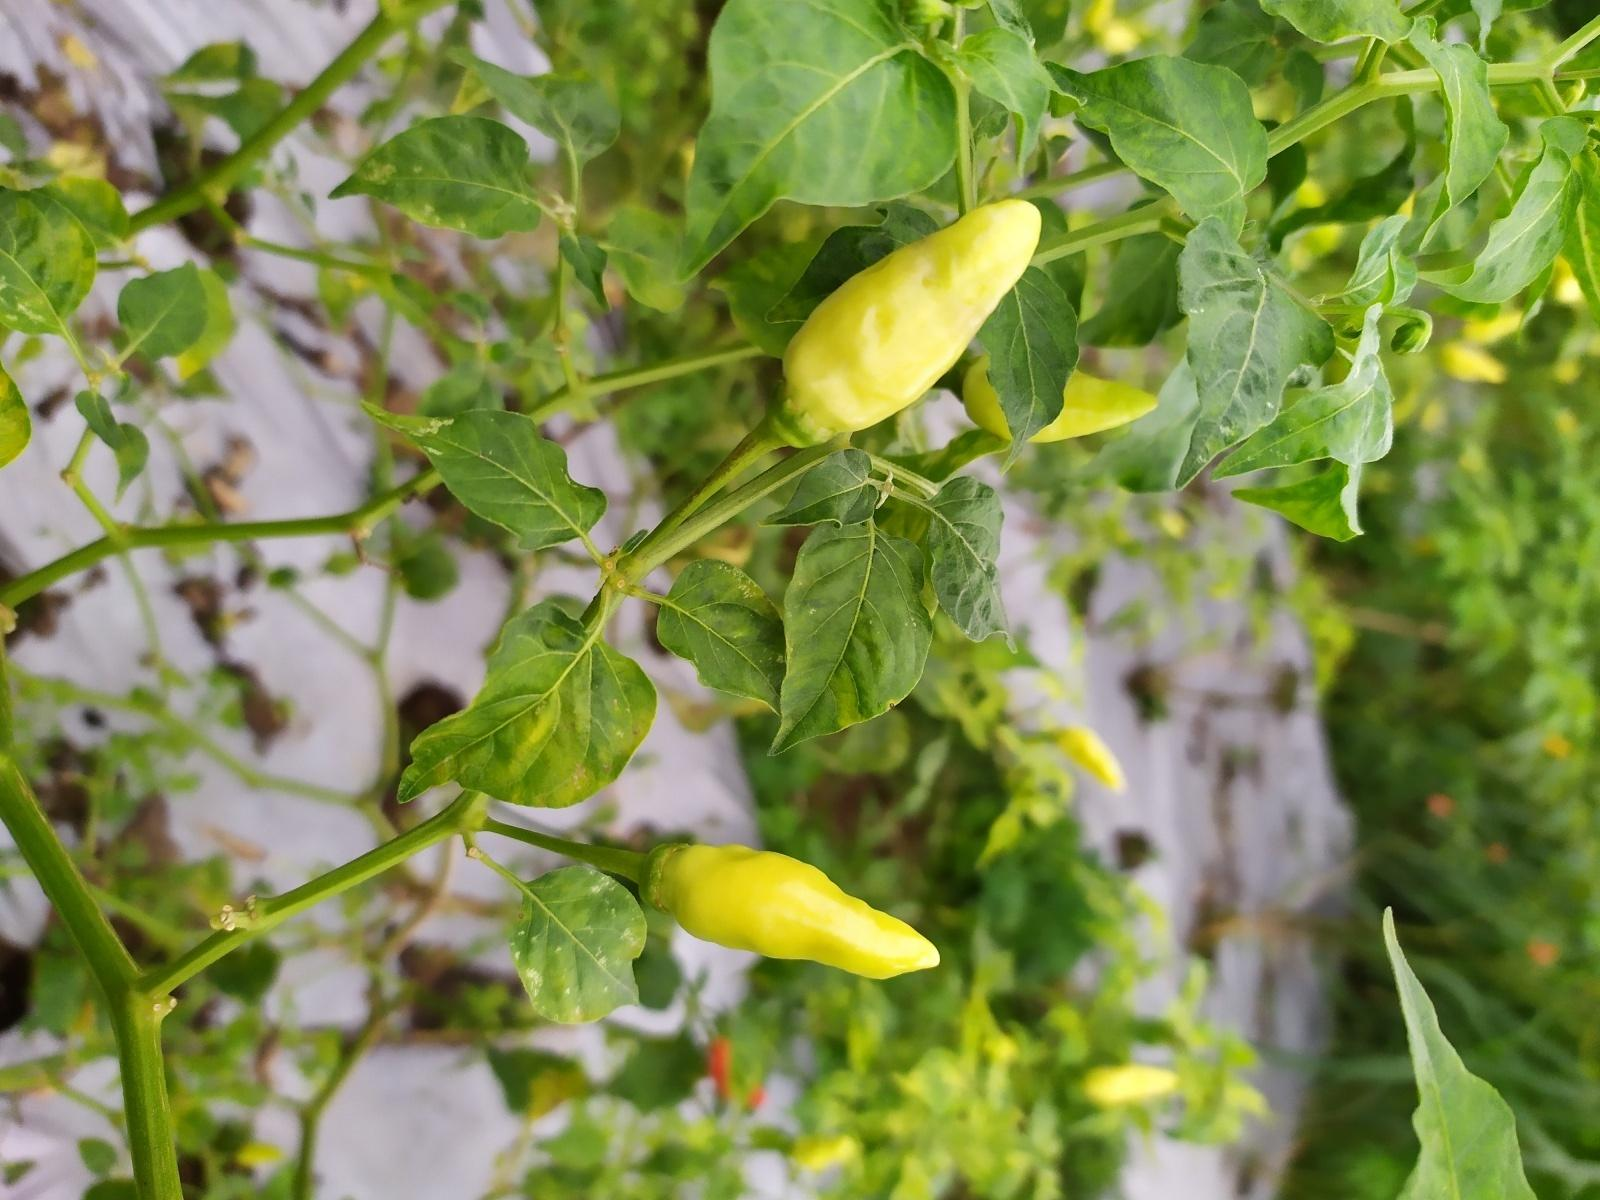cabai_normal: (781, 198, 1043, 447), (655, 842, 939, 979)
